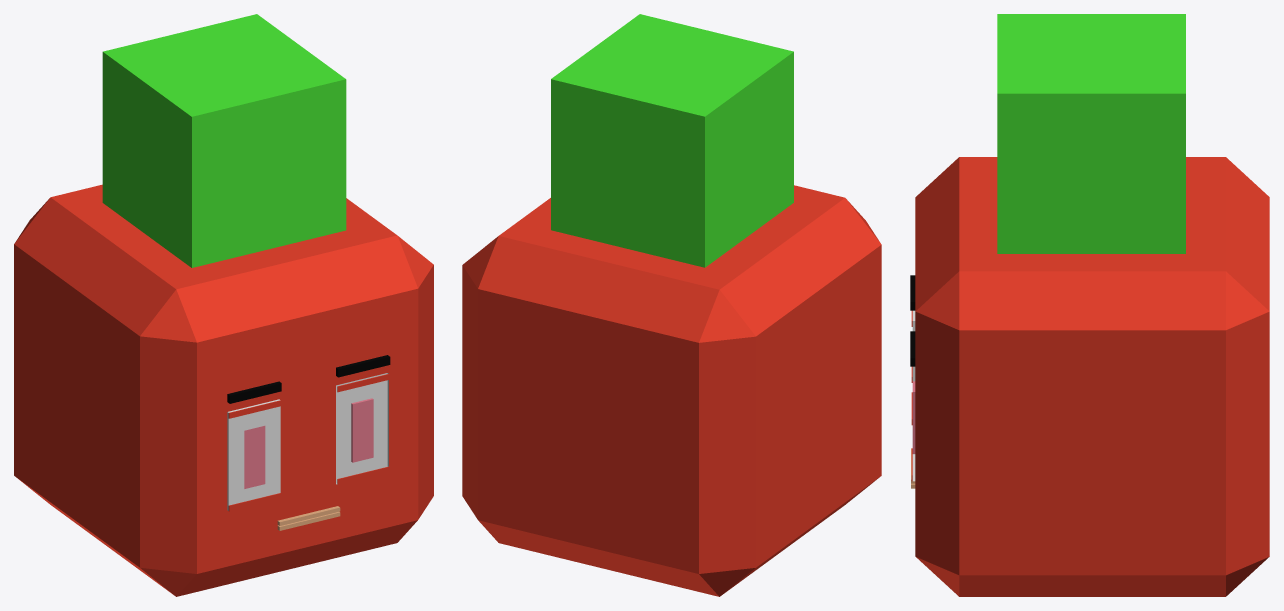
The model's file is FaceForTracked01.glb.
The picture shows the model from 3 angles, left to right: view 1: azimuth 30°, elevation 25°; view 2: azimuth 150°, elevation 25°; view 3: azimuth 270°, elevation 25°; orthographic projection. The views are drawn at different scales.
Visible parts, largest first — view 1: Cube; view 2: Cube; view 3: Cube.
Boxes of the visible parts, <box> form: Cube: <box>14,14,433,596</box>; Cube: <box>462,14,881,596</box>; Cube: <box>910,14,1269,596</box>.
Bounding box in the file's own units: 0.7 × 1.04 × 0.7.
